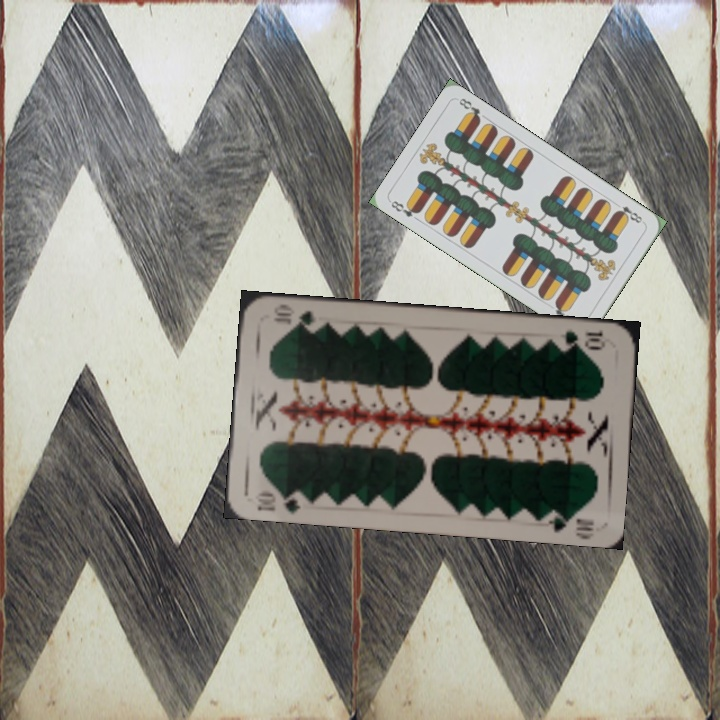E8: (612, 198, 647, 226), (387, 196, 422, 220)
G10: (251, 487, 309, 515), (561, 325, 608, 353)
